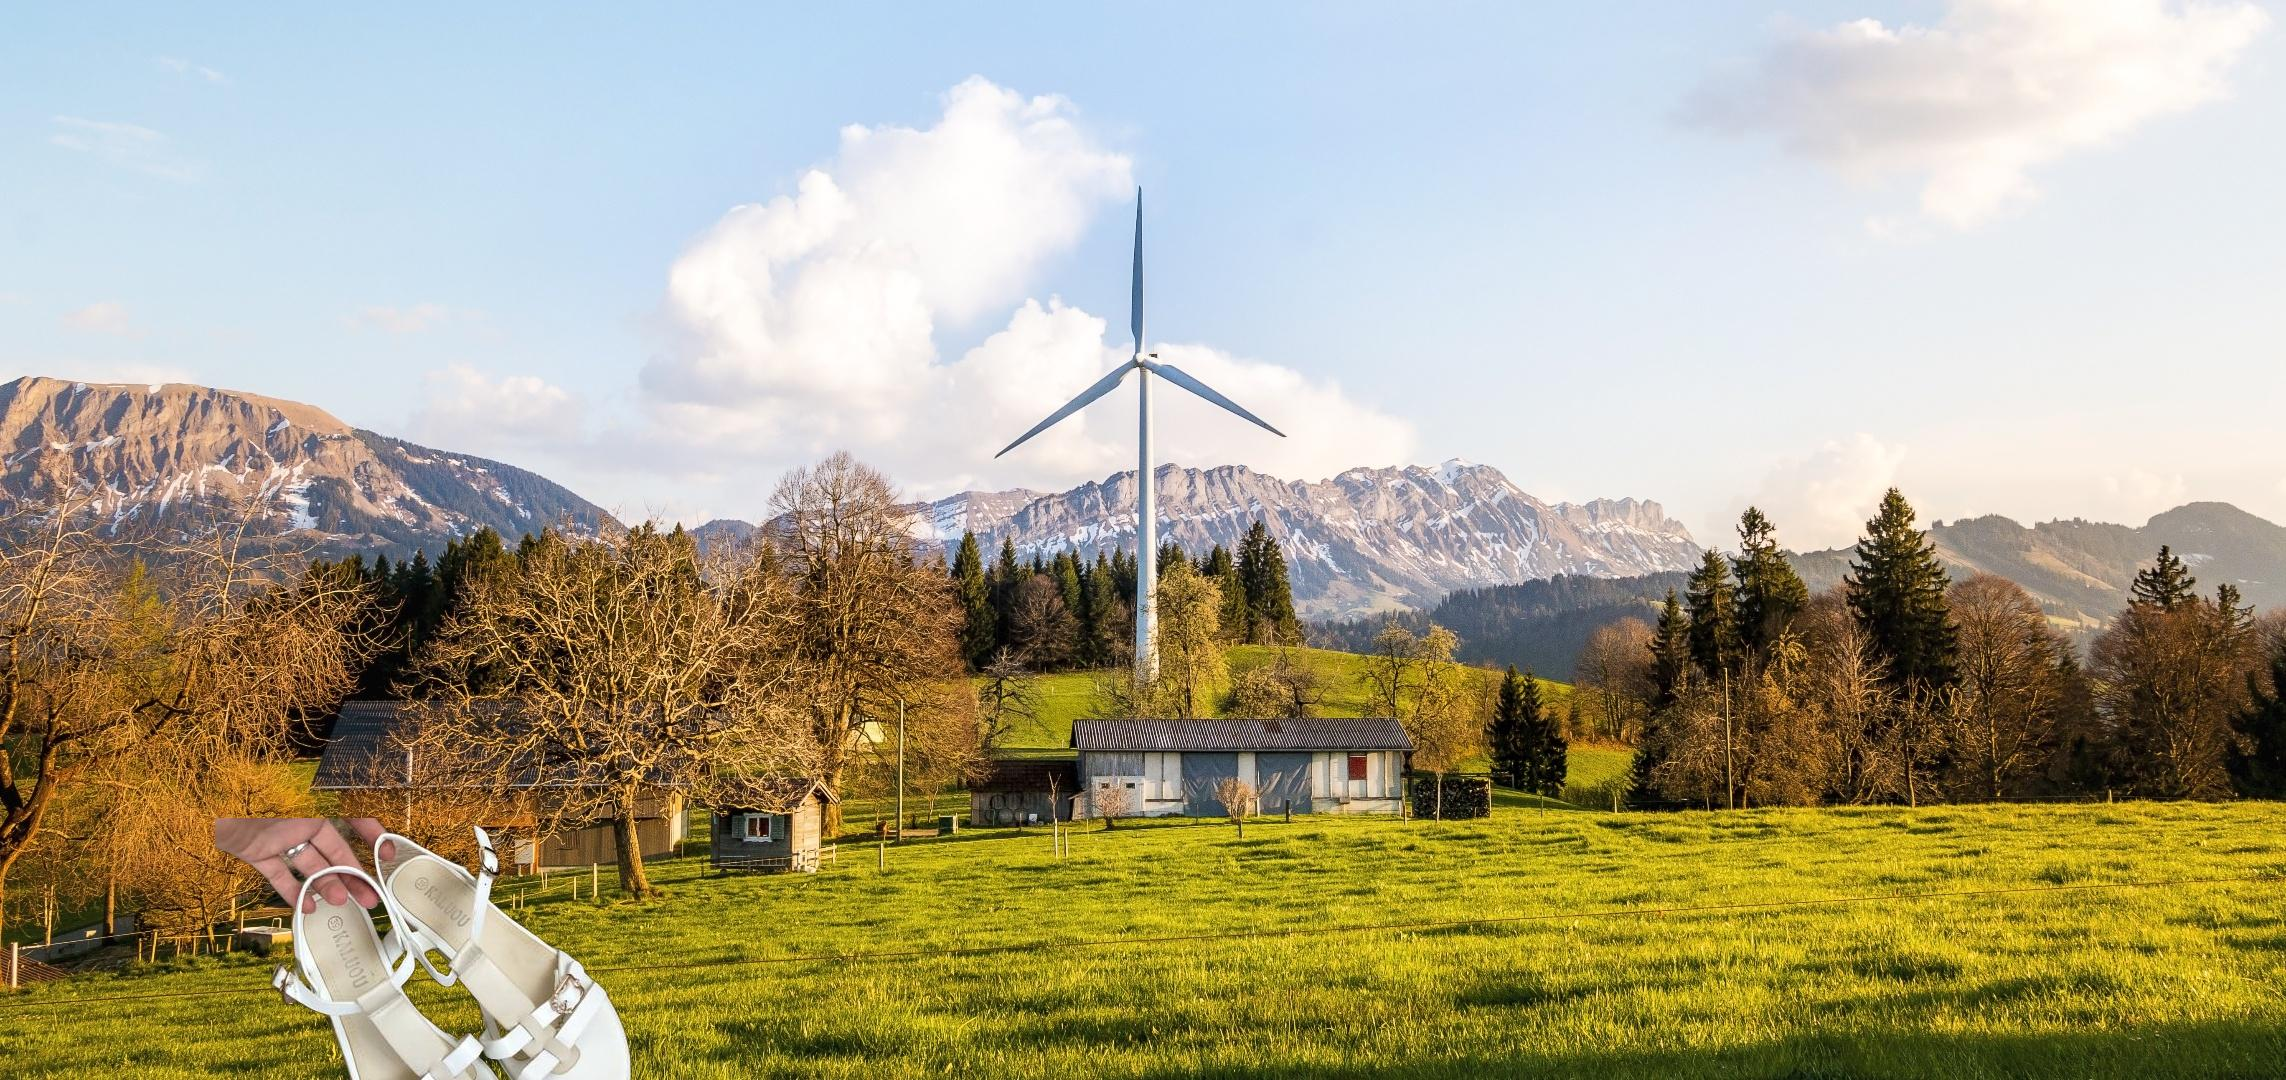clothes: (214, 818, 636, 1080)
